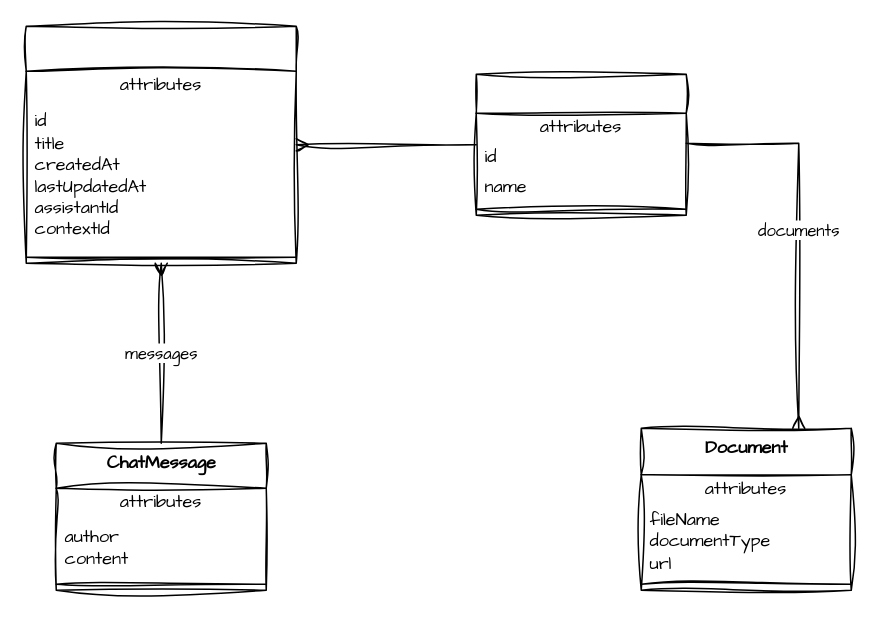
The diagram is 878 pixels wide and 617 high, and some of its shapes have lost their labels. The box of each missing label's shape, as (x1, y1, x2, y2) in pixels:
ChatConversation: (25, 25, 296, 263)
DocumentContext: (475, 73, 686, 215)
